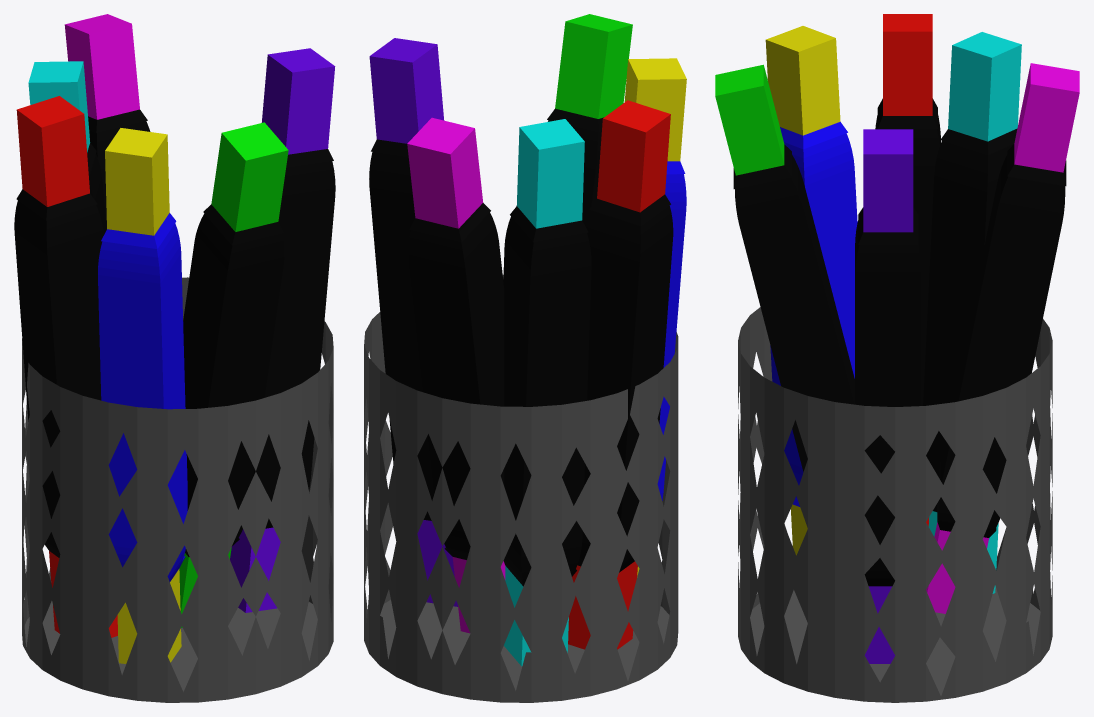
File: markers.glb
3 renders of one model, left to right at view 1: azimuth 30°, elevation 25°; view 2: azimuth 150°, elevation 25°; view 3: azimuth 270°, elevation 25°, orthographic.
Parts seen in each view (by area): view 1: Cylinder_3, Cube.005_8, Cube.001_4, Cube.003_6, Cube.002_5, Cube_0, Cube.004_7; view 2: Cylinder_3, Cube.004_7, Cube_0, Cube.003_6, Cube.002_5, Cube.001_4, Cube.005_8; view 3: Cylinder_3, Cube_0, Cube.001_4, Cube.004_7, Cube.002_5, Cube.005_8, Cube.003_6.
Boxes of the visible parts, <box> form: Cylinder_3: <box>22,277,333,702</box>; Cube.005_8: <box>98,128,187,663</box>; Cube.001_4: <box>179,122,288,627</box>; Cube.003_6: <box>14,96,117,637</box>; Cube.002_5: <box>230,48,335,612</box>; Cube_0: <box>64,14,150,229</box>; Cube.004_7: <box>28,61,106,234</box>; Cylinder_3: <box>364,274,678,702</box>; Cube.004_7: <box>503,119,591,666</box>; Cube_0: <box>407,117,505,633</box>; Cube.003_6: <box>568,100,673,649</box>; Cube.002_5: <box>369,38,457,606</box>; Cube.001_4: <box>547,14,632,225</box>; Cube.005_8: <box>624,58,686,577</box>; Cylinder_3: <box>738,307,1052,702</box>; Cube_0: <box>926,63,1079,613</box>; Cube.001_4: <box>715,64,854,471</box>; Cube.004_7: <box>923,32,1021,593</box>; Cube.002_5: <box>855,129,921,663</box>; Cube.005_8: <box>765,26,857,555</box>; Cube.003_6: <box>875,14,940,526</box>.
Size of the model in its own units: 2.1 by 3.95 by 2.32.
